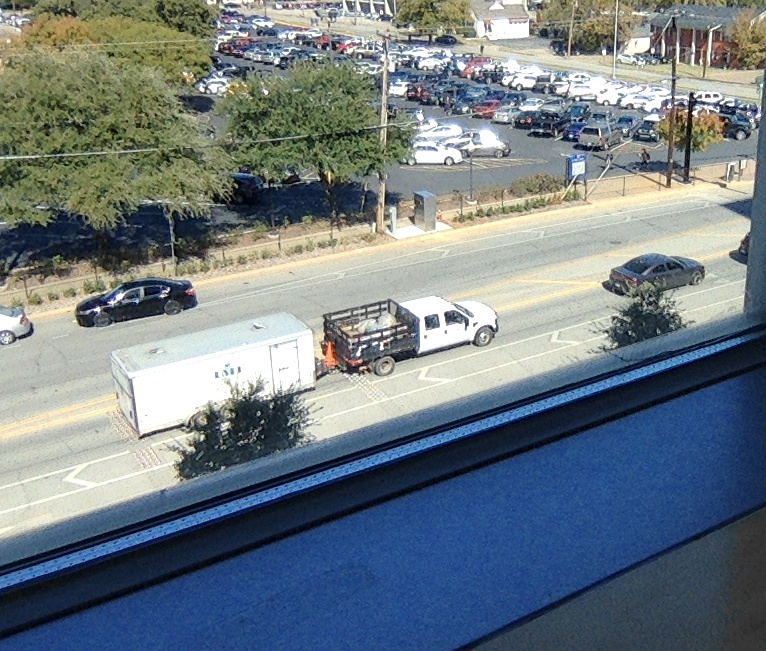car: (300, 300, 466, 387)
